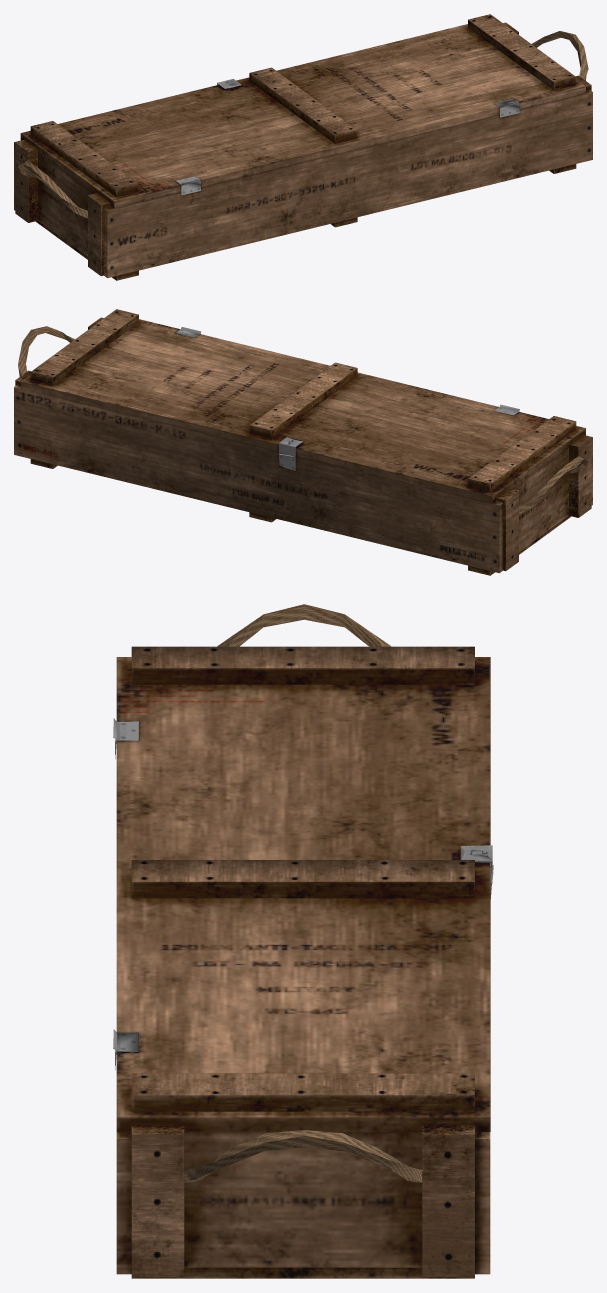
The model's file is LongBox.fbx.
3 renders of one model, top to bottom at view 1: azimuth 30°, elevation 25°; view 2: azimuth 150°, elevation 25°; view 3: azimuth 270°, elevation 25°, orthographic. The views are drawn at different scales.
Parts seen in each view (by area): view 1: LogBox; view 2: LogBox; view 3: LogBox.
Boxes of the visible parts, left/top/right/bottom form: LogBox: left=14, top=14, right=592, bottom=280; LogBox: left=14, top=309, right=592, bottom=575; LogBox: left=113, top=604, right=493, bottom=1278.
Size of what is drawn, in the model's own units: 250 by 40.83 by 75.66.
Materials: 1 (1 with a texture image).
